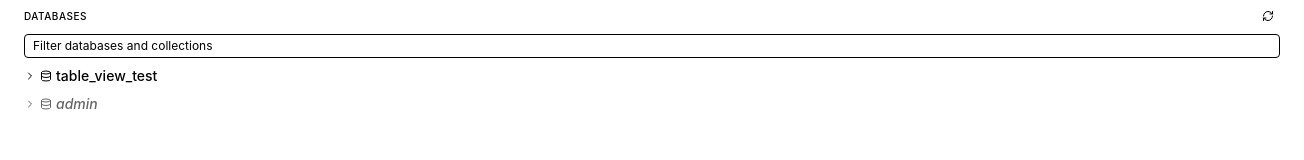
Test: DocumentDatabaseTree › Escape clears the search query
Expected: the list item with aria-label "admin database" is shown, 12,90 -> 1292,118
Type "admin" into the search field labelled "Filter databases and collections". click: x=652, y=46
box: 24,34 -> 1280,58
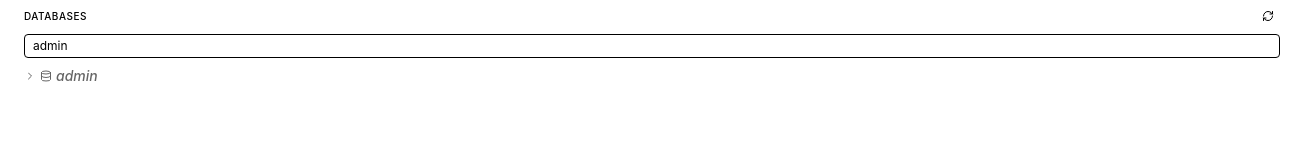
Press Escape in the search field named "Filter databases and collections", box 24,34 -> 1280,58
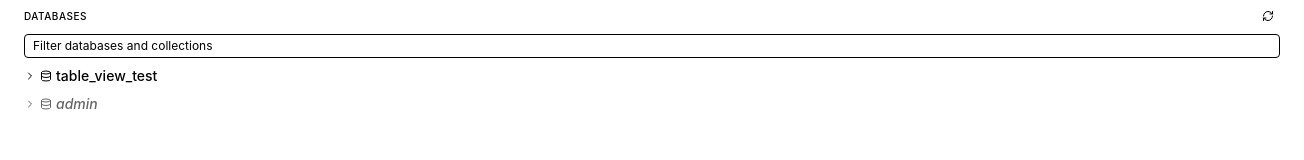
Expected: the search field labelled "Filter databases and collections" is empty, 24,34 -> 1280,58
Expected: the list item with aria-label "table_view_test database" is shown, 12,62 -> 1292,90
